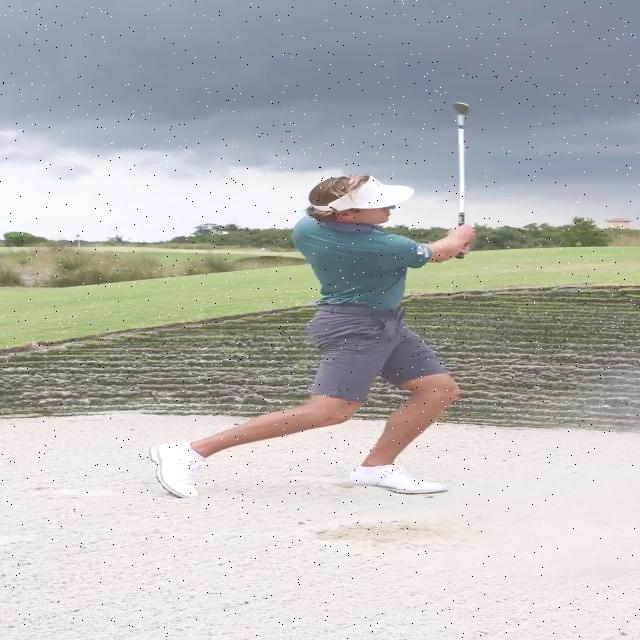golf club-handle: (453, 102, 470, 259)
golf club-head: (454, 102, 470, 115)
